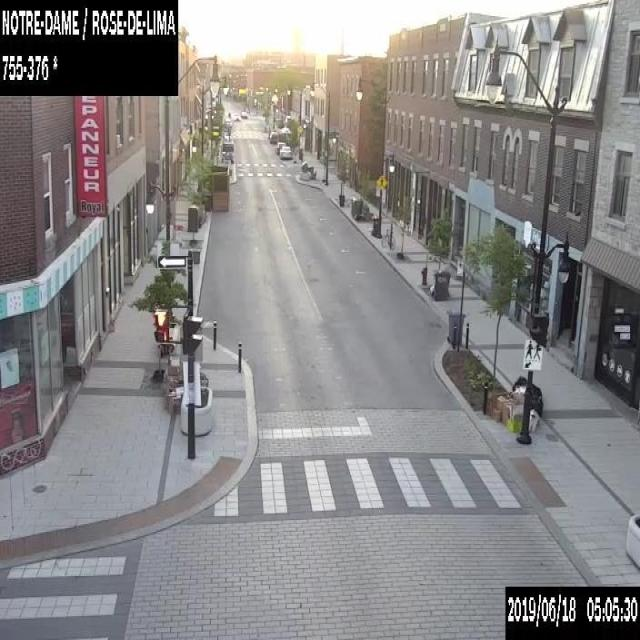vehicle: (222, 138, 234, 163), (279, 145, 291, 158), (275, 141, 285, 153), (268, 131, 276, 142), (224, 117, 231, 127), (232, 112, 240, 120), (240, 111, 247, 117)
